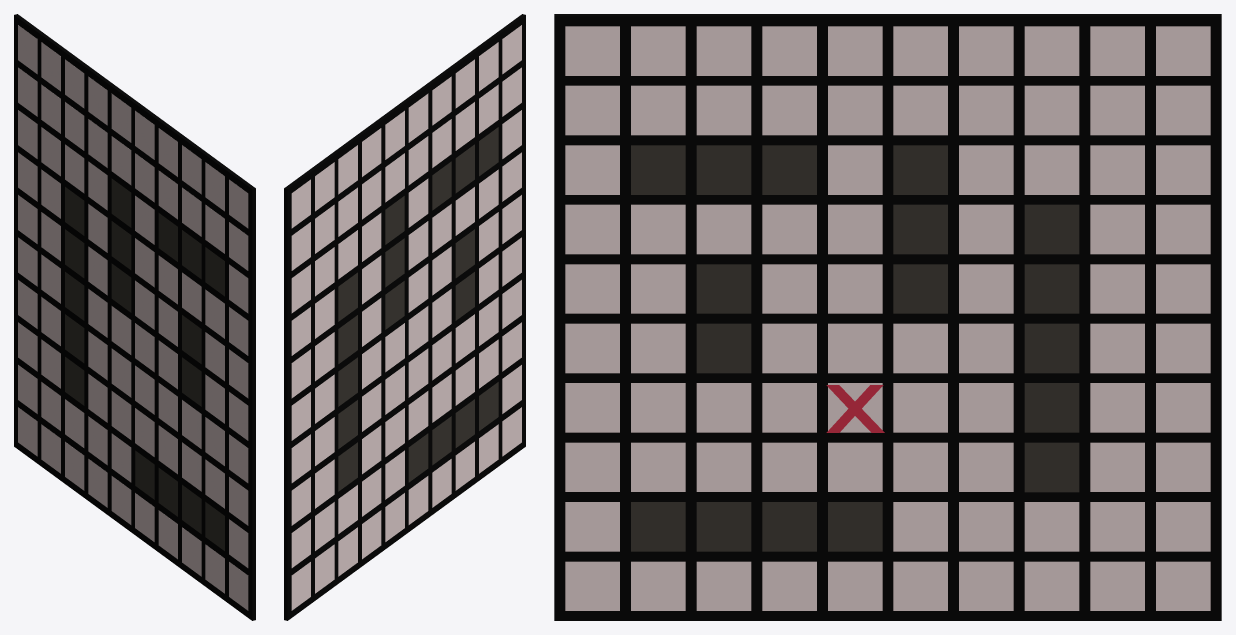
Rendered from BATTLE SHIP REVAMPED.fbx.
The picture shows the model from 3 angles, left to right: view 1: azimuth 30°, elevation 25°; view 2: azimuth 150°, elevation 25°; view 3: azimuth 270°, elevation 25°; orthographic projection. The views are drawn at different scales.
Parts seen in each view (by area): view 1: BOARD.001, BOARD.050, BOARD.031, BOARD.044, BOARD.054, BOARD.067, BOARD.111, BOARD.029, BOARD.030, BOARD.076, BOARD.043, BOARD.115 (+87 smaller); view 2: BOARD.001, BOARD.049, BOARD.092, BOARD.033, BOARD.053, BOARD.112, BOARD.118, BOARD.077, BOARD.098, BOARD.102, BOARD.042, BOARD.028 (+87 smaller); view 3: BOARD.001, BOARD.024, BOARD.026, BOARD.028, BOARD.032, BOARD.065, BOARD.095, BOARD.120, BOARD.030, BOARD.053, BOARD.054, BOARD.055 (+88 smaller).
Part boxes in pixels (box(x1,y1,x2,y2)): BOARD.001: box(14, 14, 255, 620); BOARD.050: box(111, 348, 131, 397); BOARD.031: box(111, 263, 131, 312); BOARD.044: box(111, 433, 131, 482); BOARD.054: box(111, 306, 131, 354); BOARD.067: box(111, 136, 131, 185); BOARD.111: box(111, 93, 131, 142); BOARD.029: box(111, 178, 131, 227); BOARD.030: box(111, 221, 131, 269); BOARD.076: box(111, 476, 131, 524); BOARD.043: box(111, 391, 131, 439); BOARD.115: box(205, 162, 224, 211); BOARD.001: box(284, 14, 525, 620); BOARD.049: box(408, 348, 428, 397); BOARD.092: box(408, 263, 428, 312); BOARD.033: box(408, 433, 428, 482); BOARD.053: box(408, 306, 428, 354); BOARD.112: box(408, 93, 428, 142); BOARD.118: box(408, 136, 428, 185); BOARD.077: box(408, 476, 428, 524); BOARD.098: box(408, 221, 428, 269); BOARD.102: box(408, 178, 428, 227); BOARD.042: box(408, 391, 428, 439); BOARD.028: box(338, 272, 357, 321); BOARD.001: box(554, 14, 1221, 620); BOARD.024: box(1024, 442, 1079, 492); BOARD.026: box(1024, 323, 1079, 373); BOARD.028: box(1024, 204, 1079, 254); BOARD.032: box(696, 323, 751, 373); BOARD.065: box(1024, 85, 1079, 135); BOARD.095: box(696, 204, 751, 254); BOARD.120: box(696, 85, 751, 135); BOARD.030: box(893, 204, 947, 254); BOARD.053: box(828, 323, 882, 373); BOARD.054: box(893, 323, 947, 373); BOARD.055: box(959, 323, 1013, 373).
Size of the model in its own units: 0.1612 by 12.2 by 12.2.
